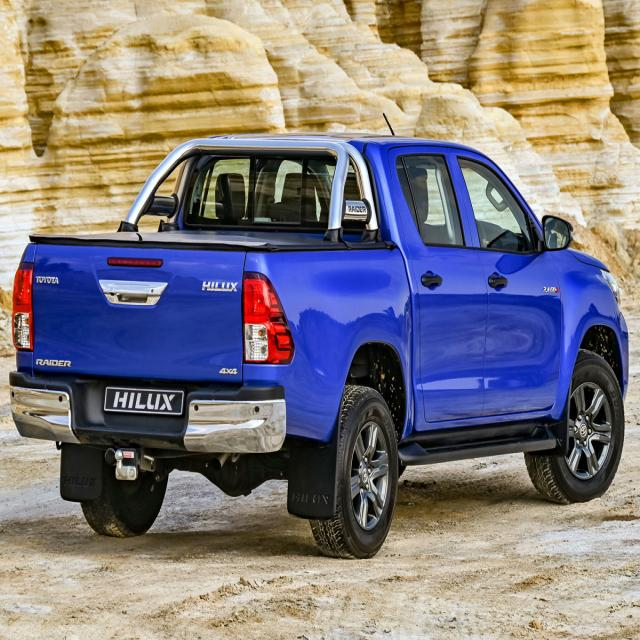Pickup Trucks: (10, 111, 629, 560)
